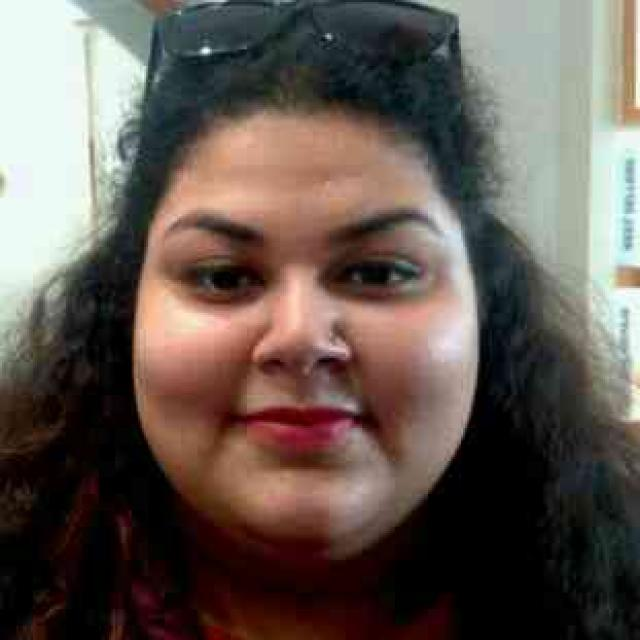Puffy Eyes - v3 Dark Circle: (175, 285, 264, 310), (327, 280, 420, 300)
